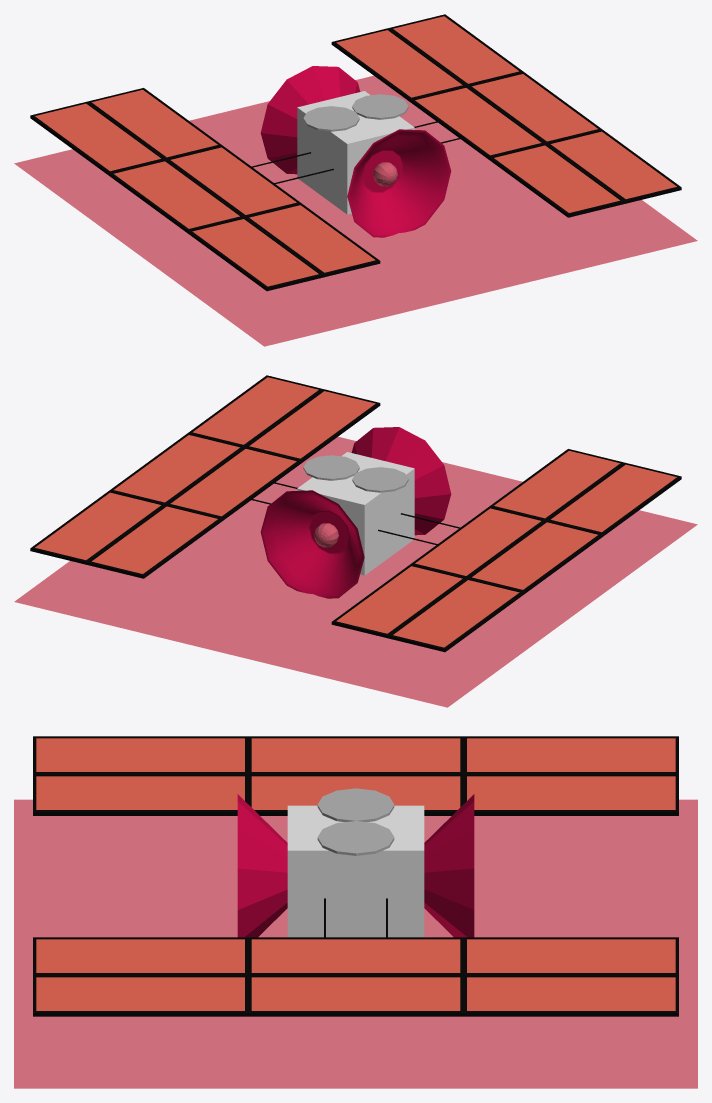
Rendered from satellite2_pink.fbx.
3 renders of one model, top to bottom at view 1: azimuth 30°, elevation 25°; view 2: azimuth 150°, elevation 25°; view 3: azimuth 270°, elevation 25°, orthographic. The views are drawn at different scales.
Visible parts, largest first — view 1: pCube10 (×2), ght_ght1, pCone1 (×2), pCube9, pCylinder13, pCylinder14; view 2: pCube10 (×2), ght_ght1, pCone1 (×2), pCube9, pCylinder13, pCylinder14; view 3: ght_ght1, pCube10 (×2), pCube9, pCone1 (×2), pCylinder14, pCylinder13.
Part boxes in pixels (x1=…): pCube10 (×2): x1=30, y1=14, x2=681, y2=291; ght_ght1: x1=14, y1=75, x2=697, y2=346; pCone1 (×2): x1=260, y1=66, x2=451, y2=237; pCube9: x1=297, y1=91, x2=414, y2=214; pCylinder13: x1=303, y1=106, x2=359, y2=131; pCylinder14: x1=352, y1=94, x2=408, y2=119; pCube10 (×2): x1=30, y1=375, x2=681, y2=652; ght_ght1: x1=14, y1=436, x2=697, y2=707; pCone1 (×2): x1=260, y1=427, x2=451, y2=598; pCube9: x1=297, y1=452, x2=414, y2=575; pCylinder13: x1=352, y1=467, x2=408, y2=492; pCylinder14: x1=303, y1=455, x2=359, y2=480; ght_ght1: x1=14, y1=799, x2=697, y2=1088; pCube10 (×2): x1=33, y1=736, x2=678, y2=1016; pCube9: x1=287, y1=805, x2=424, y2=937; pCone1 (×2): x1=237, y1=794, x2=474, y2=937; pCylinder14: x1=317, y1=821, x2=394, y2=855; pCylinder13: x1=317, y1=788, x2=394, y2=821.
Bounding box in the file's own units: 8 × 1.92 × 8.
